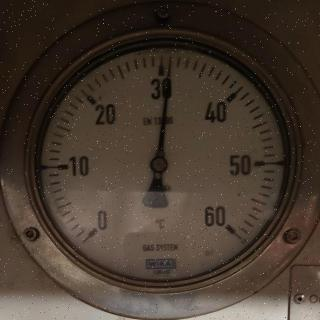gauge: (22, 26, 300, 297), (77, 214, 110, 246), (211, 211, 245, 241), (148, 155, 168, 173), (163, 54, 175, 74)
